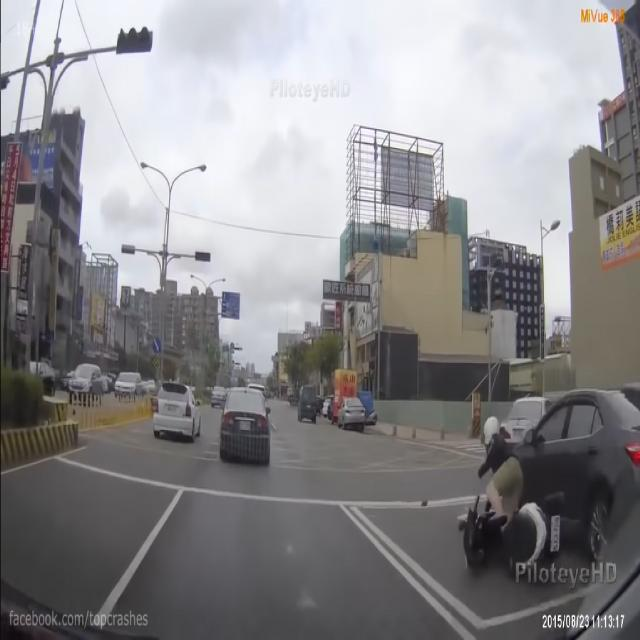accident: (442, 383, 629, 563), (454, 411, 570, 564), (448, 491, 568, 563)
